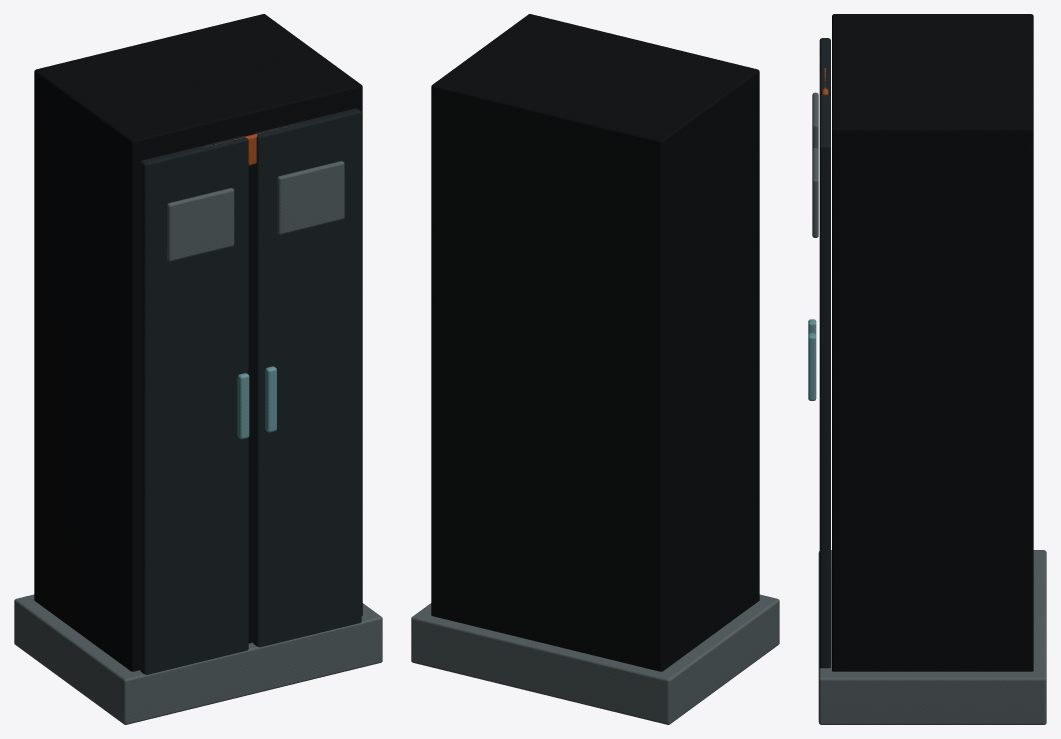
File: UtilityLocker.fbx
The picture shows the model from 3 angles, left to right: view 1: azimuth 30°, elevation 25°; view 2: azimuth 150°, elevation 25°; view 3: azimuth 270°, elevation 25°; orthographic projection. The views are drawn at different scales.
Visible parts, largest first — view 1: UtilityLocker_Mesh; view 2: UtilityLocker_Mesh; view 3: UtilityLocker_Mesh.
Part boxes in pixels (<box>): UtilityLocker_Mesh: <box>14,14,382,724</box>; UtilityLocker_Mesh: <box>411,14,779,724</box>; UtilityLocker_Mesh: <box>808,14,1046,724</box>.
Bounding box in the file's own units: 94 × 200 × 73.25.
